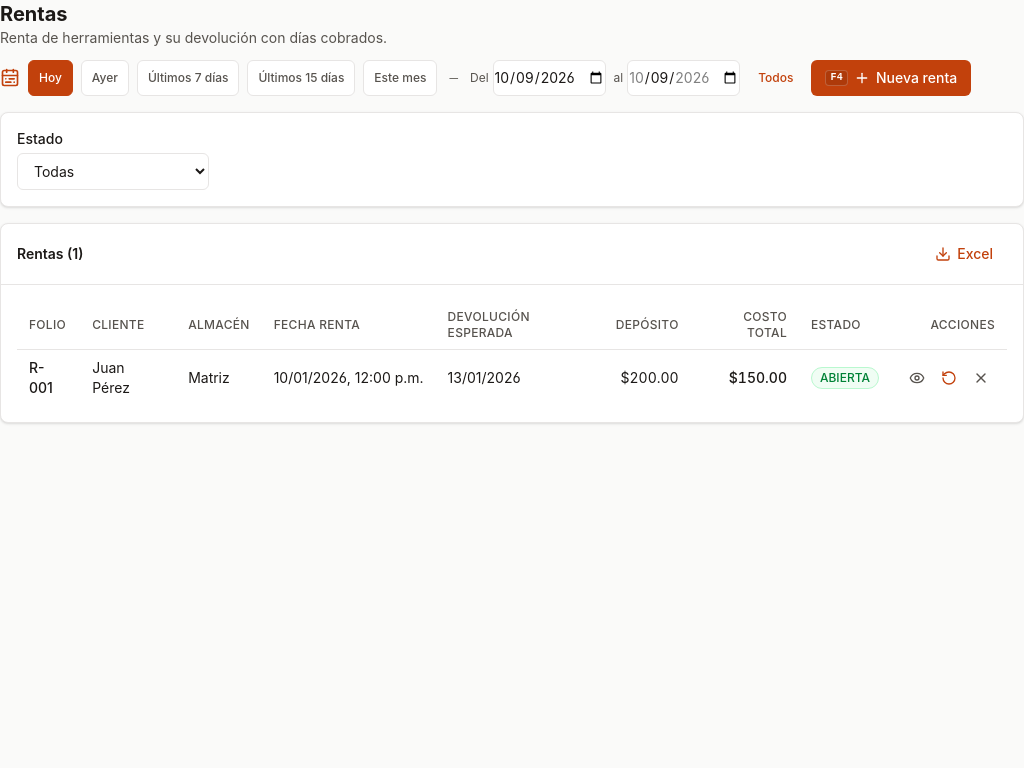
Test case: RentasPage › abre el detalle de la renta al hacer clic en Ver detalles
Click the button named "Ver detalles": (917,378) [903,364,931,392]
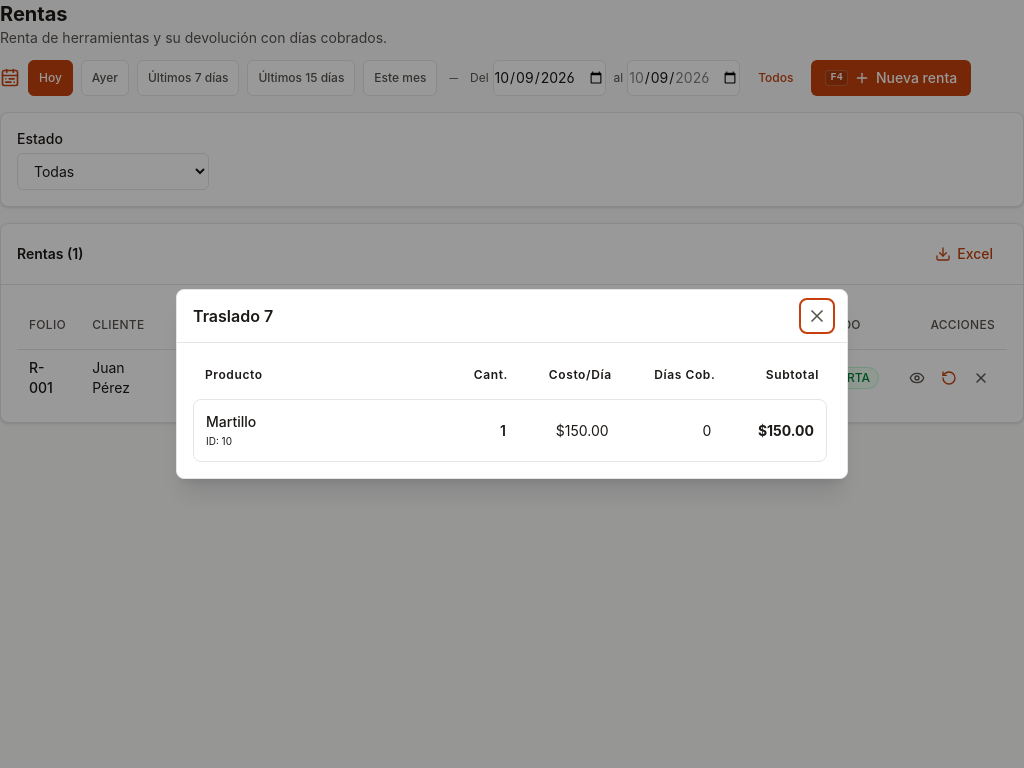
Expected: the heading "Traslado 7" is shown, [193,304,273,328]
Expected: the text "Costo/Día" is shown, [549,367,612,382]
Expected: the text "Martillo" is shown, [206,413,256,430]
